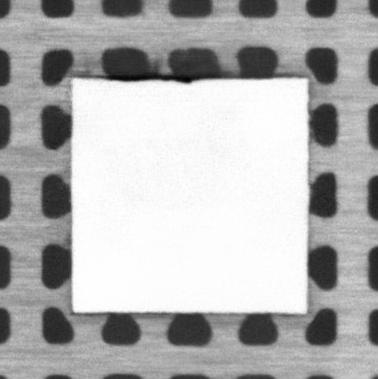DIE_BROKEN: (102, 72, 227, 83)
